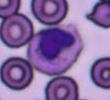M: (27, 26, 81, 75)
